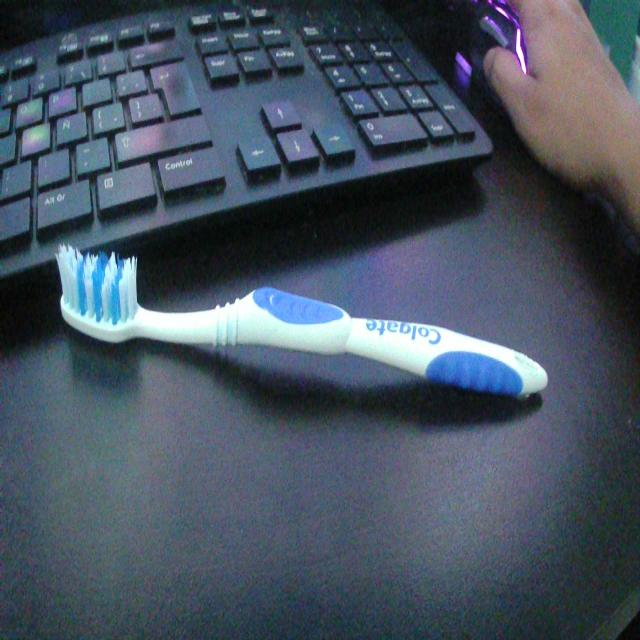Organico: (38, 231, 554, 404)
